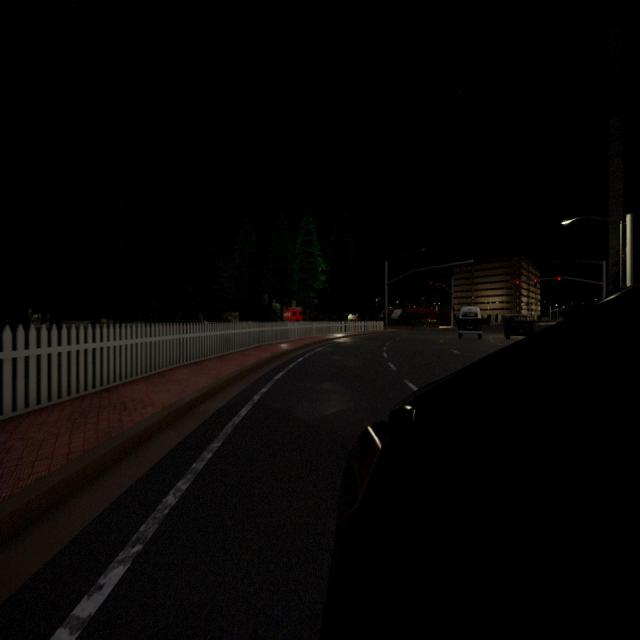Vehicle: (323, 282, 640, 640), (504, 314, 541, 341), (458, 307, 482, 339), (283, 307, 303, 321)
traffic_light: (557, 276, 561, 280), (516, 281, 518, 284), (429, 282, 432, 284), (571, 302, 573, 305), (582, 302, 584, 305), (534, 279, 536, 282), (436, 283, 438, 286), (443, 284, 444, 288)
